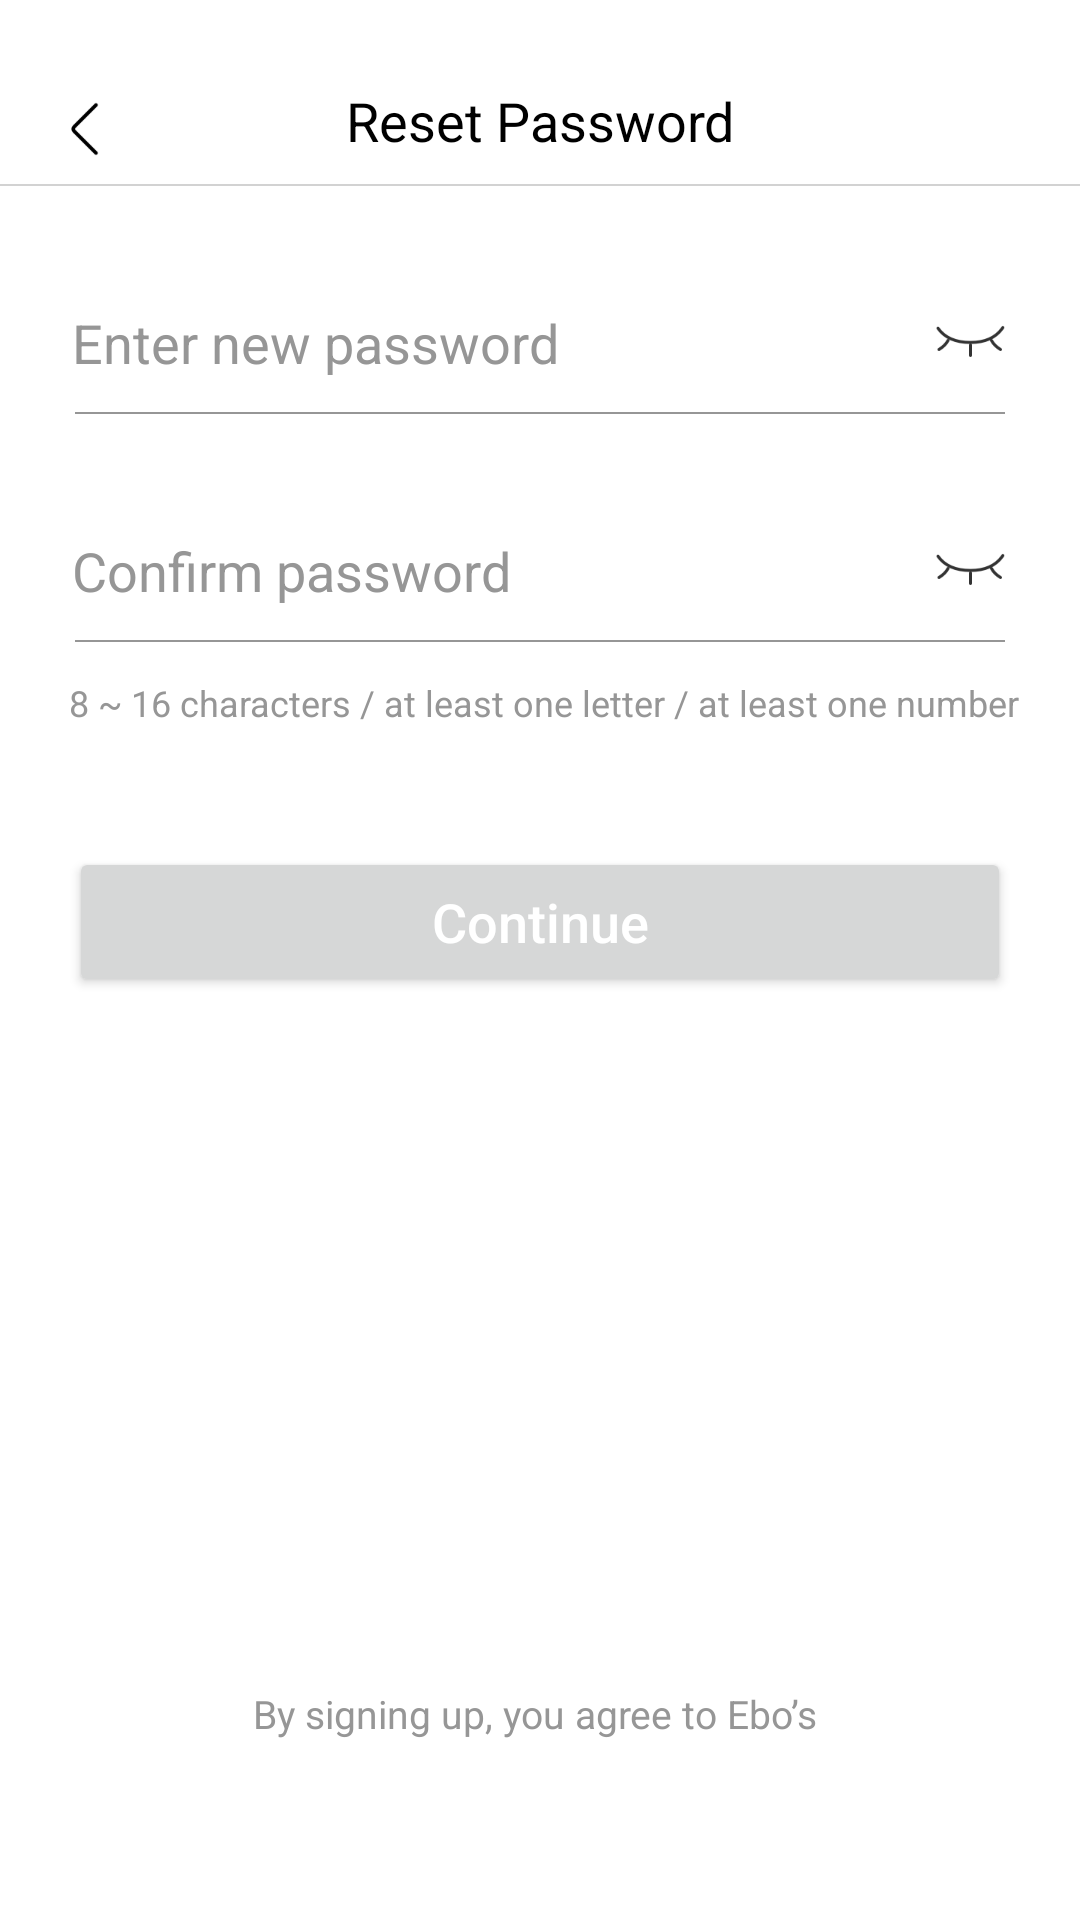

Locate icon controls on the screen. Image size 1080 x 1920, boxes as (x1=x1, y1=y1, x2=x2, y2=y2).
back: (x1=71, y1=103, x2=98, y2=155)
pwd unsee: (x1=936, y1=326, x2=1005, y2=357), (x1=936, y1=554, x2=1005, y2=585)
